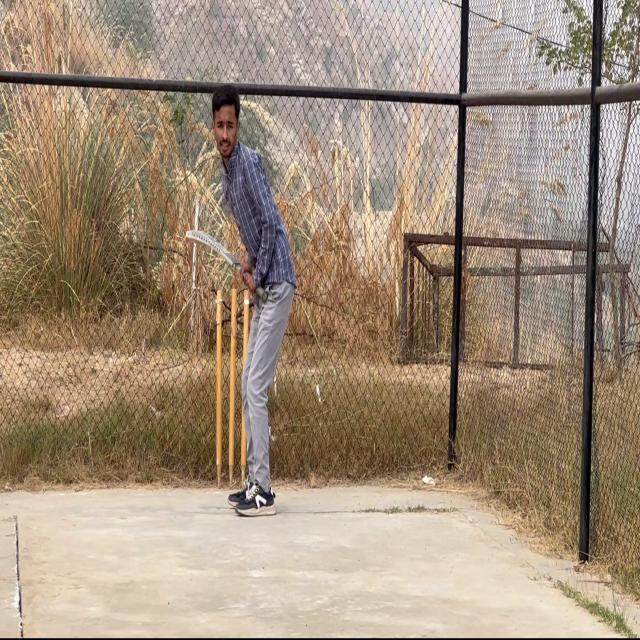Batsman: (199, 72, 304, 532)
